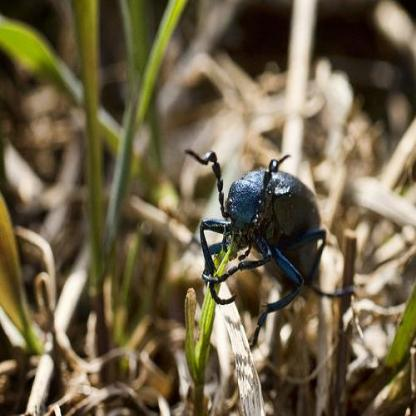beetle: (195, 139, 326, 335)
